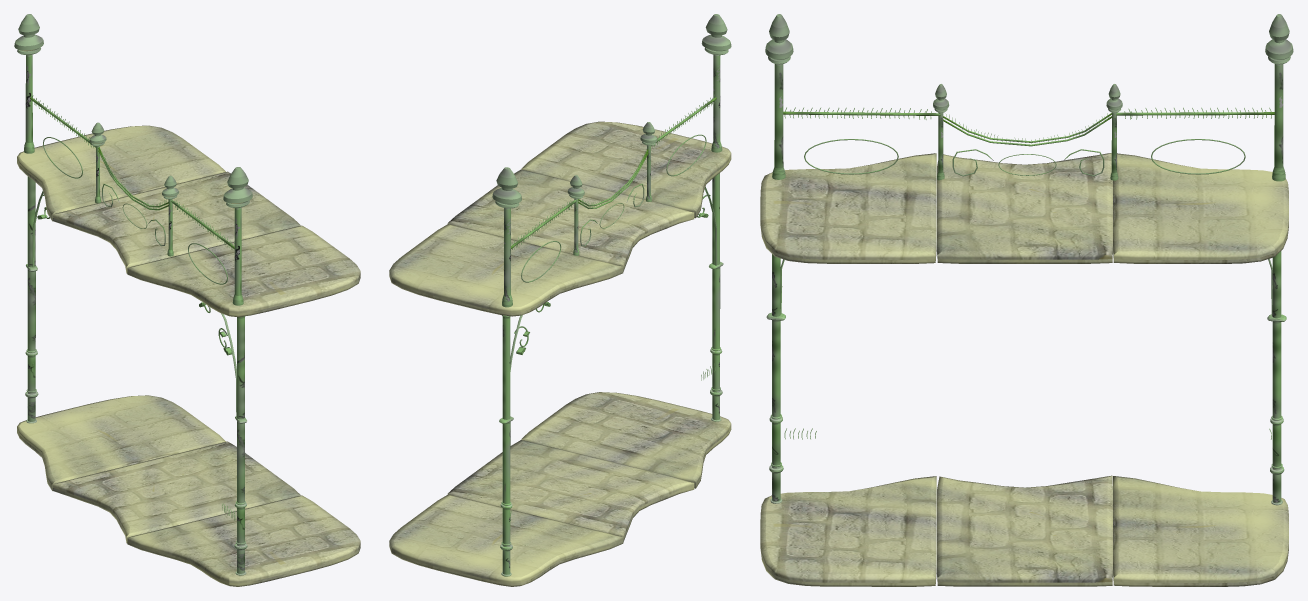
Rendered from sceneFloors.FBX.
3 views of the same model, side by side, from view 1: azimuth 30°, elevation 25°; view 2: azimuth 150°, elevation 25°; view 3: azimuth 270°, elevation 25° (orthographic). The views are drawn at different scales.
Visible parts, largest first — view 1: Box019, Box023, Box021, Box022, Box001, Box020, Line204, Line650, Line250, Line006, Line249, Line007; view 2: Box022, Box021, Box020, Box023, Box001, Box019, Line204, Line650, Line006, Line250, Line249, Line007; view 3: Box021, Box001, Box023, Box022, Box019, Box020, Line204, Line650, Line007, Line249, Line250, Line006.
Part boxes in pixels (box(x1,y1,x2,y2)): Box019: box(127, 225, 360, 316); Box023: box(127, 495, 360, 586); Box021: box(52, 441, 300, 543); Box022: box(17, 395, 226, 490); Box001: box(52, 171, 300, 273); Box020: box(17, 125, 225, 221); Line204: box(25, 176, 38, 423); Line650: box(234, 316, 247, 575); Line250: box(223, 167, 252, 207); Line006: box(14, 14, 43, 54); Line249: box(232, 207, 243, 305); Line007: box(24, 54, 34, 153); Box022: box(389, 494, 623, 586); Box021: box(447, 440, 694, 542); Box020: box(389, 224, 623, 316); Box023: box(521, 392, 731, 488); Box001: box(447, 169, 694, 271); Box019: box(521, 121, 731, 218); Line204: box(499, 315, 513, 576); Line650: box(709, 173, 723, 421); Line006: box(492, 167, 521, 208); Line250: box(701, 14, 731, 55); Line249: box(711, 54, 722, 152); Line007: box(502, 208, 512, 307); Box021: box(937, 475, 1112, 586); Box001: box(937, 153, 1112, 263); Box023: box(760, 476, 936, 586); Box022: box(1113, 476, 1288, 586); Box019: box(760, 153, 936, 263); Box020: box(1113, 153, 1288, 263); Line204: box(1267, 251, 1286, 505); Line650: box(766, 254, 785, 503); Line007: box(1272, 64, 1285, 181); Line249: box(772, 64, 785, 179); Line250: box(765, 14, 793, 64); Line006: box(1265, 14, 1293, 64).
Size of the model in its own units: 40.38 by 90.48 by 87.78.
